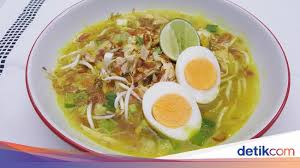soto: (25, 1, 288, 157)
